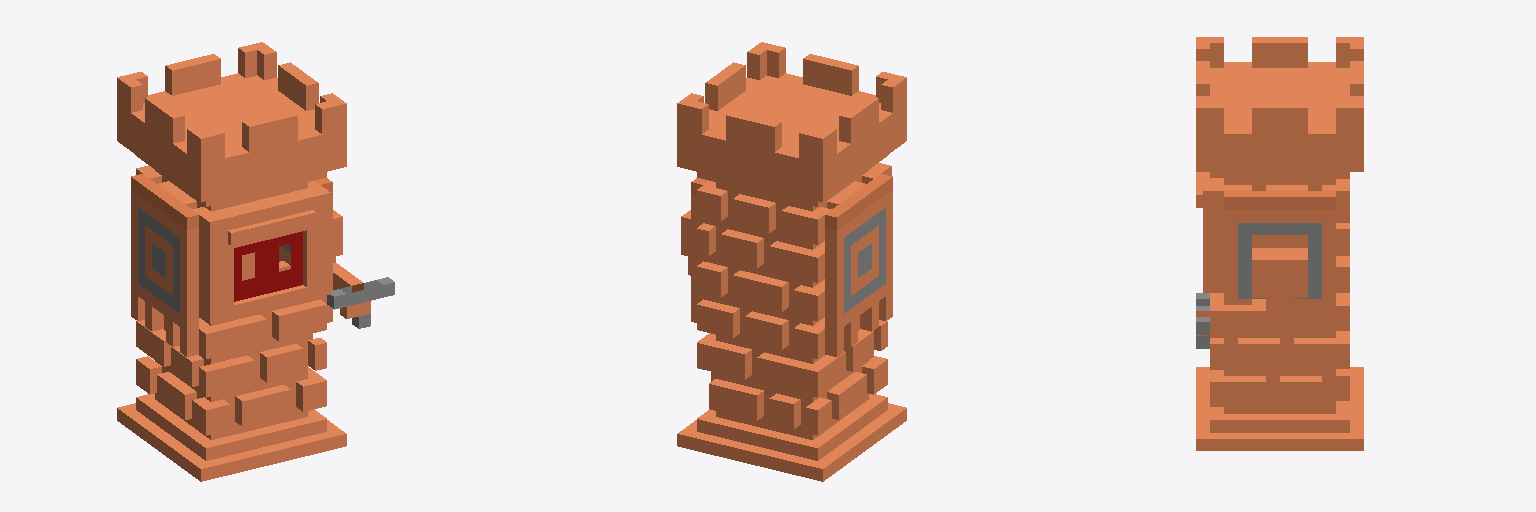
The picture shows the model from 3 angles: view 1: azimuth 30°, elevation 25°; view 2: azimuth 150°, elevation 25°; view 3: azimuth 270°, elevation 25°; orthographic projection.
Parts seen in each view (by area): view 1: object 1; view 2: object 1; view 3: object 1.
Part boxes in pixels (x1,y1,x2,y2): object 1: (117,42,394,481); object 1: (677,42,906,481); object 1: (1196,37,1363,450).
Bounding box in the file's own units: 3.2 × 5.4 × 2.4.
Materials: 1 (1 with a texture image).